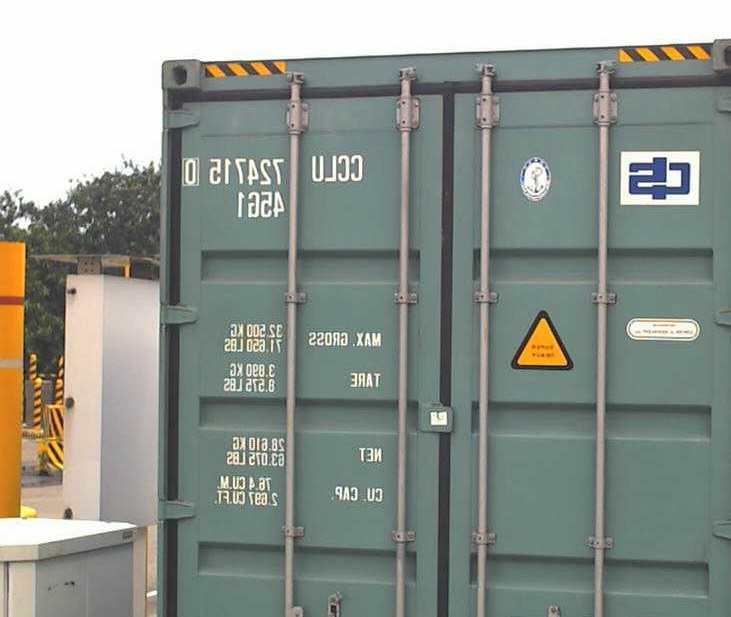container_door: (163, 51, 730, 613)
